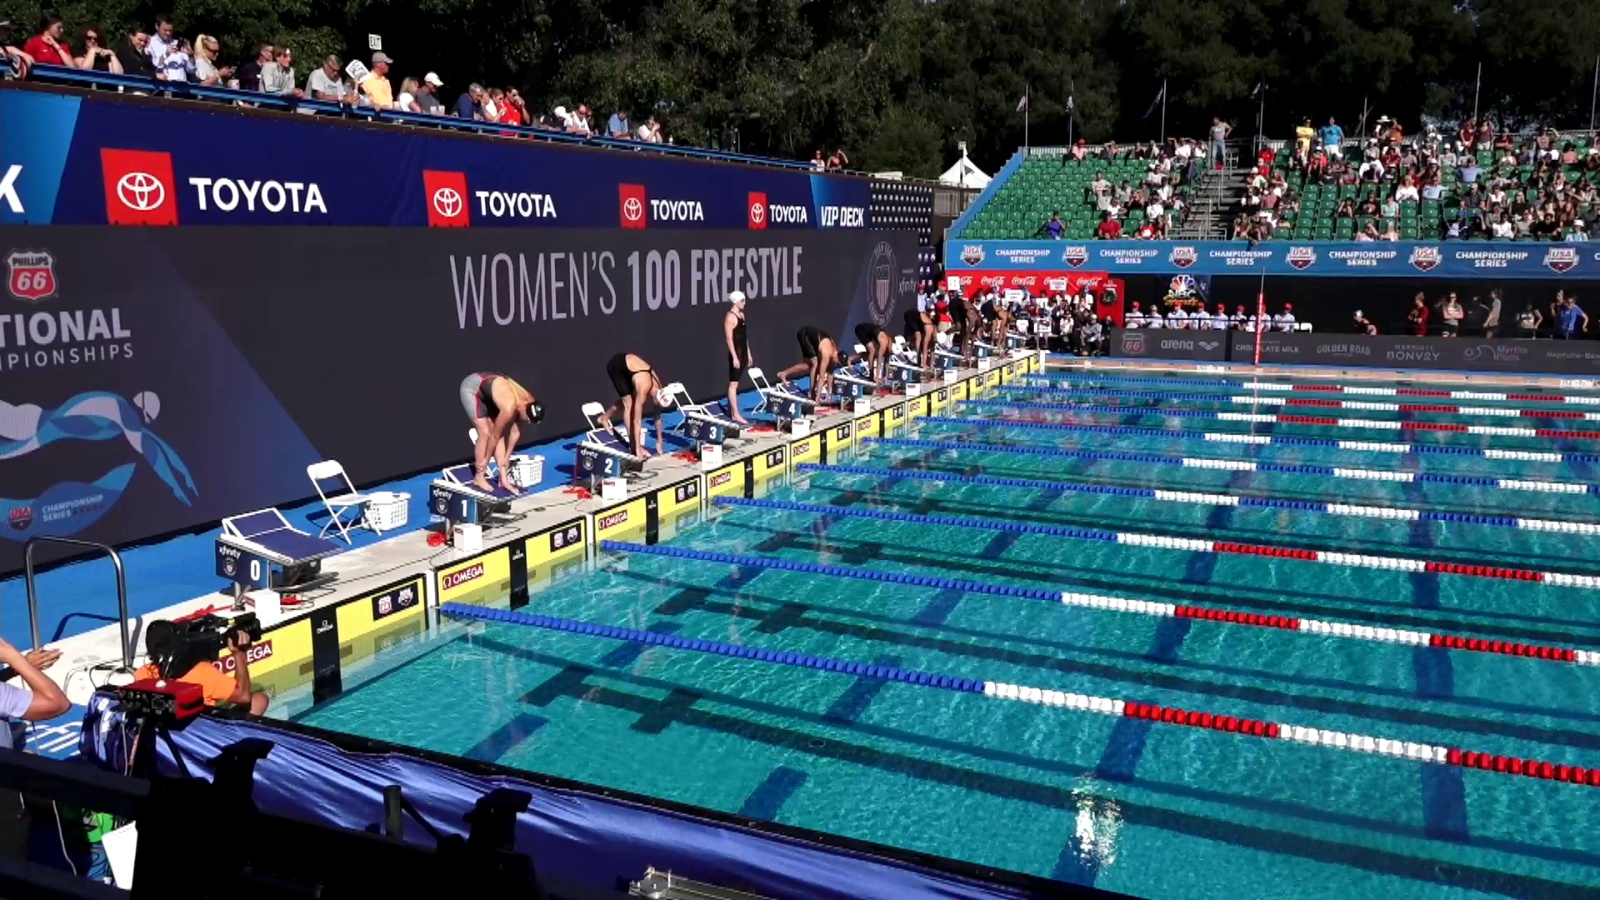swimmerw: (443, 365, 542, 493), (605, 351, 677, 476), (777, 327, 838, 416), (721, 289, 754, 425), (854, 323, 902, 401), (900, 316, 949, 373), (947, 297, 986, 365), (978, 295, 1018, 357)
